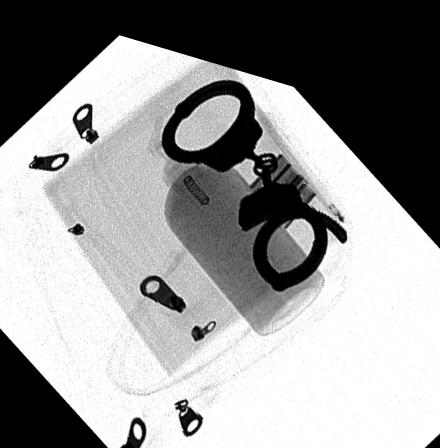HandCuffs: (158, 66, 345, 275)
